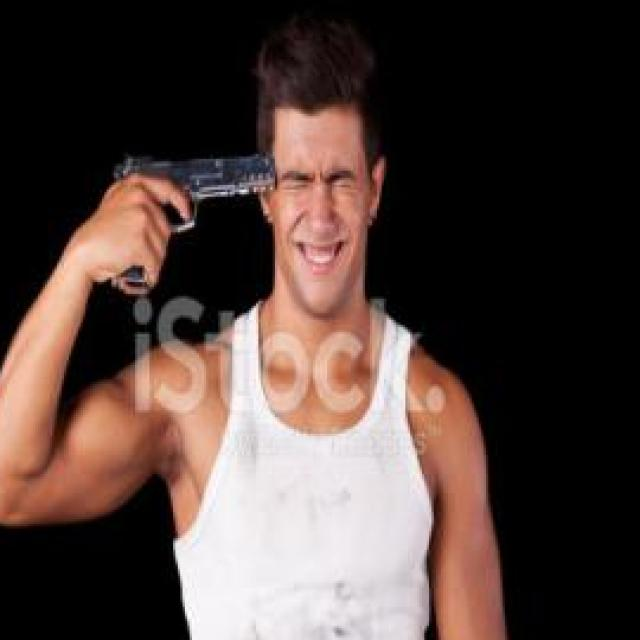pistol: (106, 142, 280, 294)
